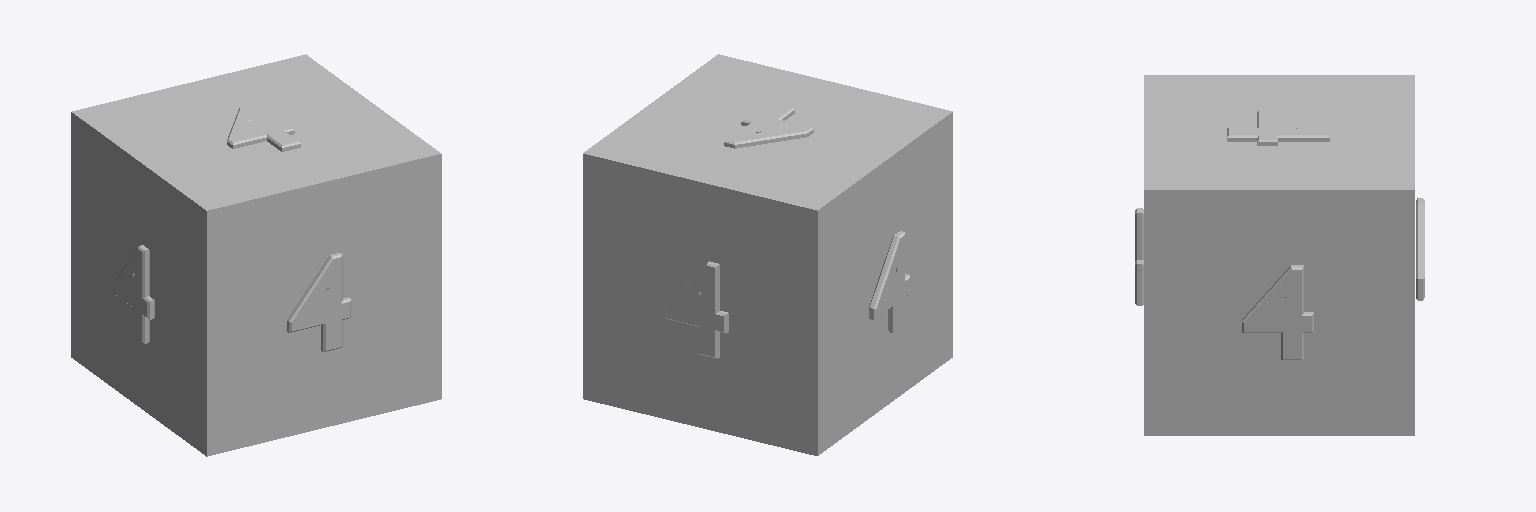
3 views of the same model, side by side, from view 1: azimuth 30°, elevation 25°; view 2: azimuth 150°, elevation 25°; view 3: azimuth 270°, elevation 25° (orthographic).
Visible parts, largest first — view 1: Cube, Text.005_CUText.005, Text.008_CUText.008, Text.003_CUText.003; view 2: Cube, Text.007_CUText.007, Text.008_CUText.008, Text.003_CUText.003; view 3: Cube, Text.006_CUText.006, Text.003_CUText.003, Text.007_CUText.007, Text.005_CUText.005.
Part boxes in pixels (x1,y1,x2,y2): Cube: (71, 54, 441, 456); Text.005_CUText.005: (287, 253, 350, 351); Text.008_CUText.008: (114, 245, 154, 343); Text.003_CUText.003: (227, 105, 300, 151); Cube: (583, 54, 952, 455); Text.007_CUText.007: (664, 261, 728, 358); Text.008_CUText.008: (869, 231, 909, 332); Text.003_CUText.003: (724, 104, 813, 148); Cube: (1144, 75, 1414, 435); Text.006_CUText.006: (1242, 265, 1313, 359); Text.003_CUText.003: (1227, 111, 1329, 145); Text.007_CUText.007: (1416, 198, 1424, 300); Text.005_CUText.005: (1135, 208, 1143, 305).
Bounding box in the file's own units: 2.14 × 2.1 × 2.13.